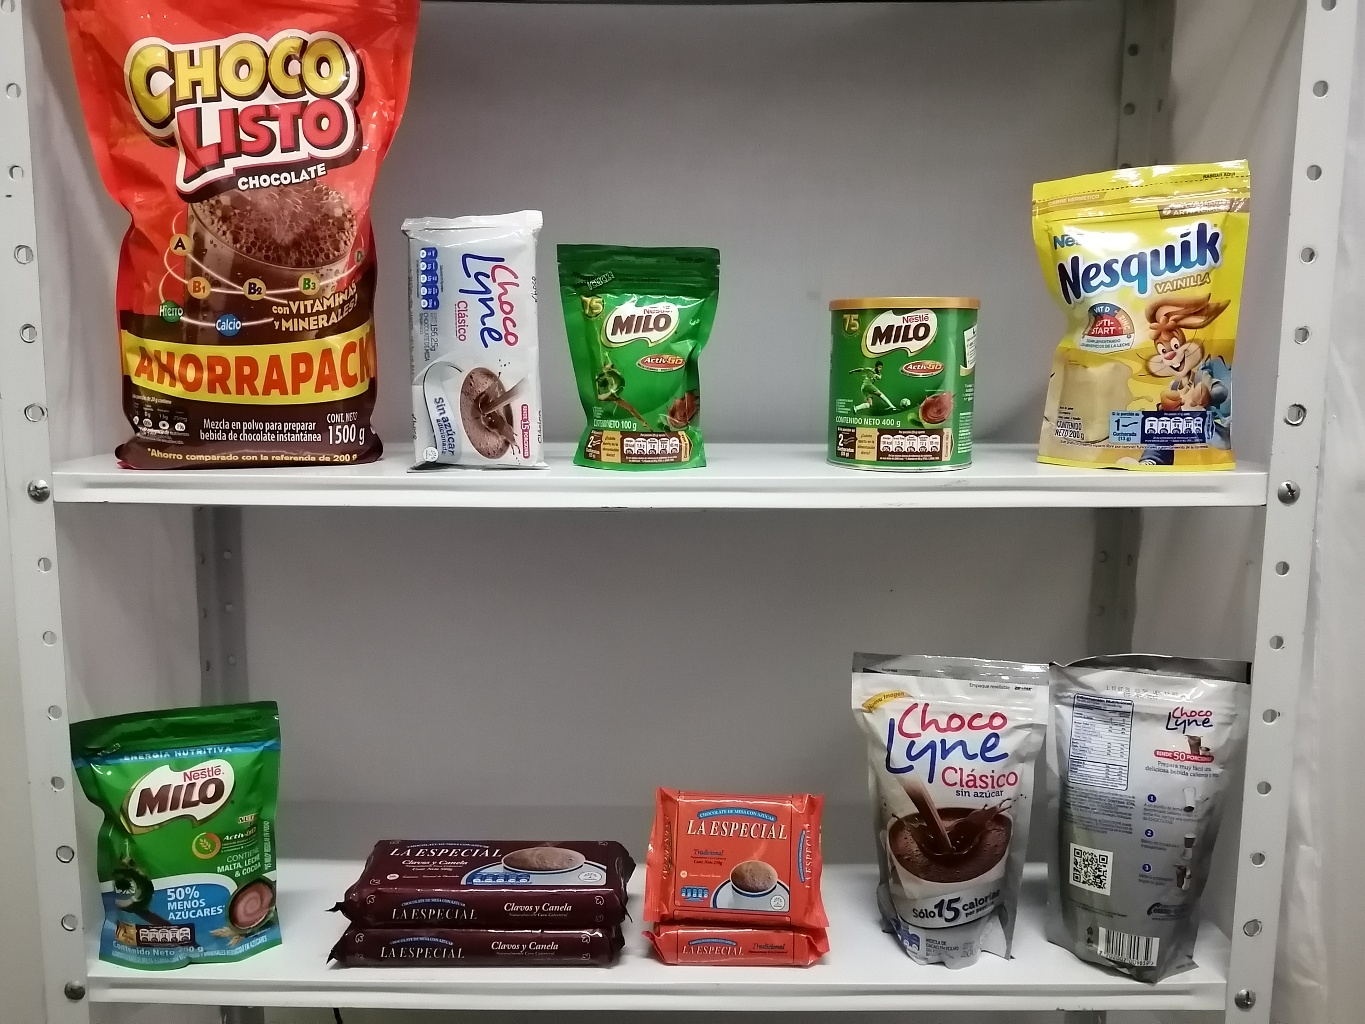COL0170103DYP1,500: (52, 2, 430, 471)
COL0170203DYP10000: (554, 232, 722, 481)
COL0170203LAT40000: (819, 291, 986, 475)
COL0170205DYP20000: (52, 680, 298, 975)
COL0170306DYP20000: (1022, 153, 1261, 487)
